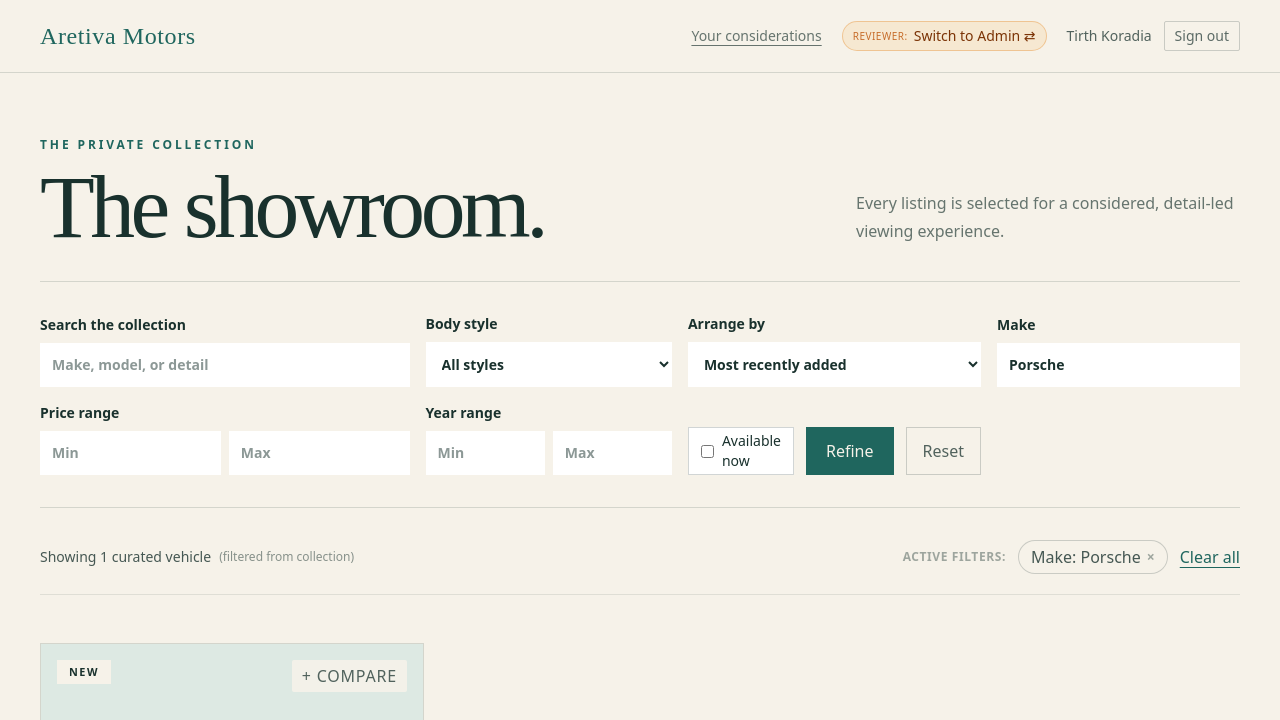
Scenario: private showroom › displays the live results counter and active filter chips
Expected: the text "Showing 1 curated vehicle" is shown, x1=40 y1=547 x2=211 y2=567
Expected: the text "Make: Porsche" is shown, x1=1031 y1=545 x2=1141 y2=569
Click the button with aria-label "Remove Make: Porsche filter": (1093, 557) x1=1018 y1=540 x2=1168 y2=574
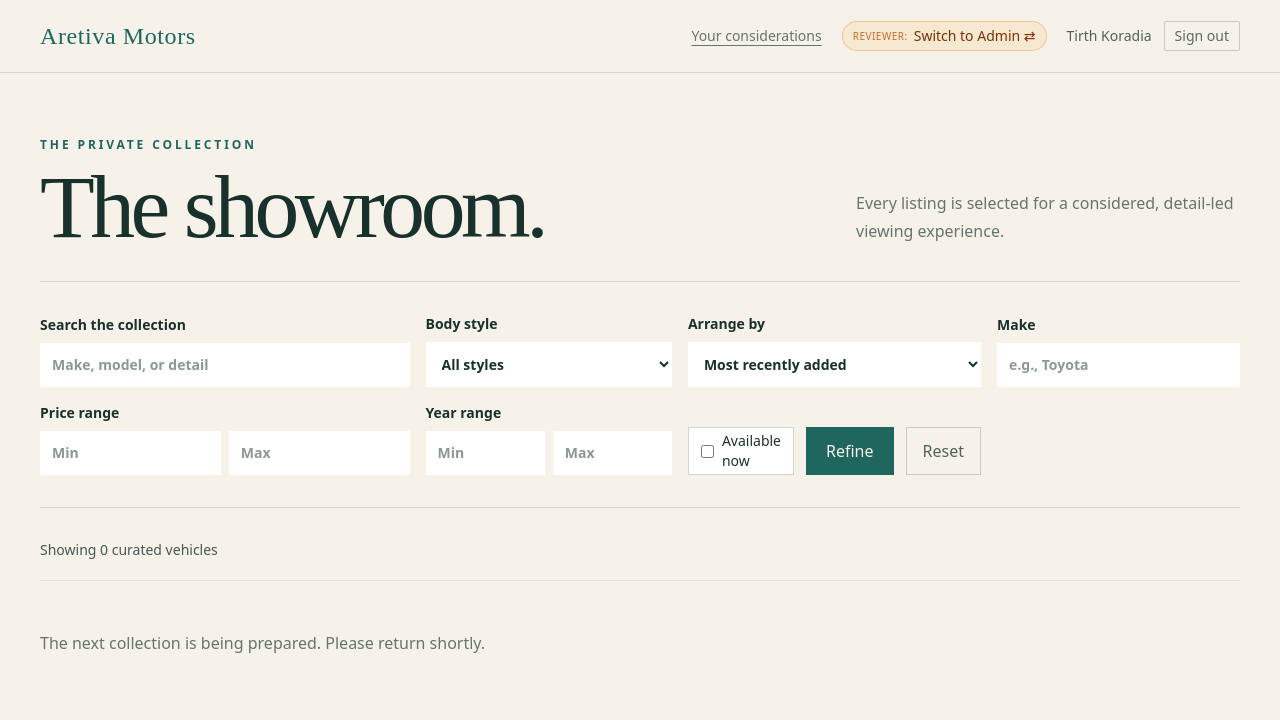
Now the button "Make: Porsche" is gone
